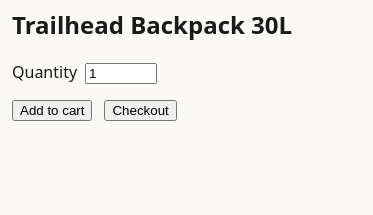
it: ProductPage › shows a rejection message when checkout rejects the order
Click the button "Checkout" at [141, 110], box [104,100,177,121]
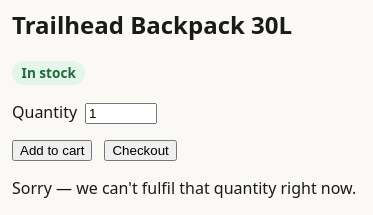
Check: the text "Sorry — we can't fulfil that quantity right now." is shown, box [12,177,356,199]
